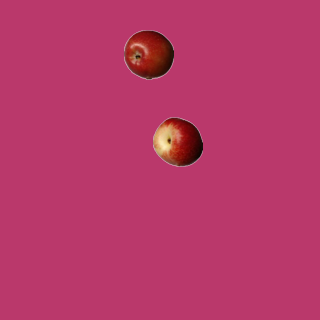Apple Braeburn: (123, 29, 173, 79)
Nectarine: (152, 116, 202, 166)
